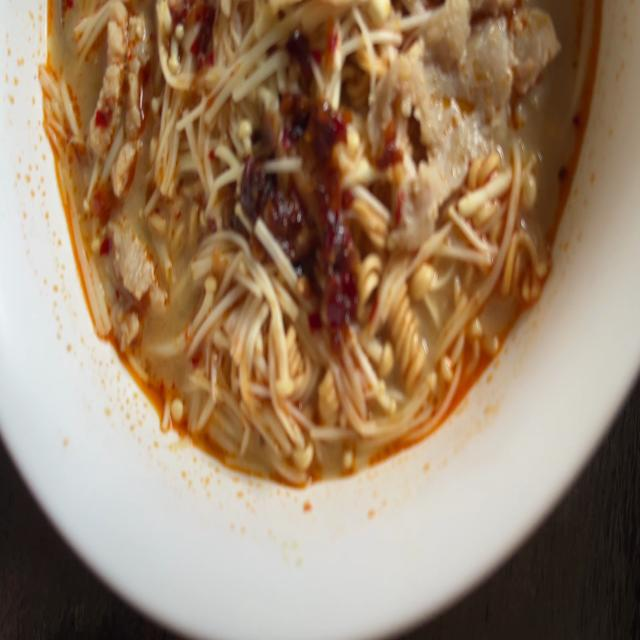noodle: (34, 0, 614, 512)
